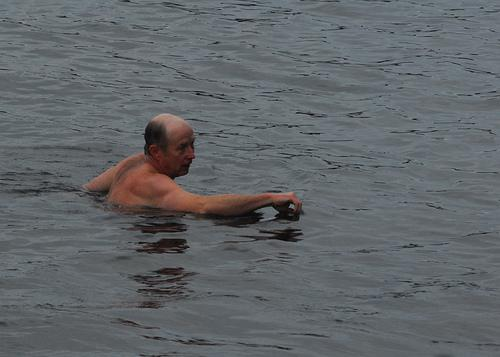human: (84, 112, 302, 217)
